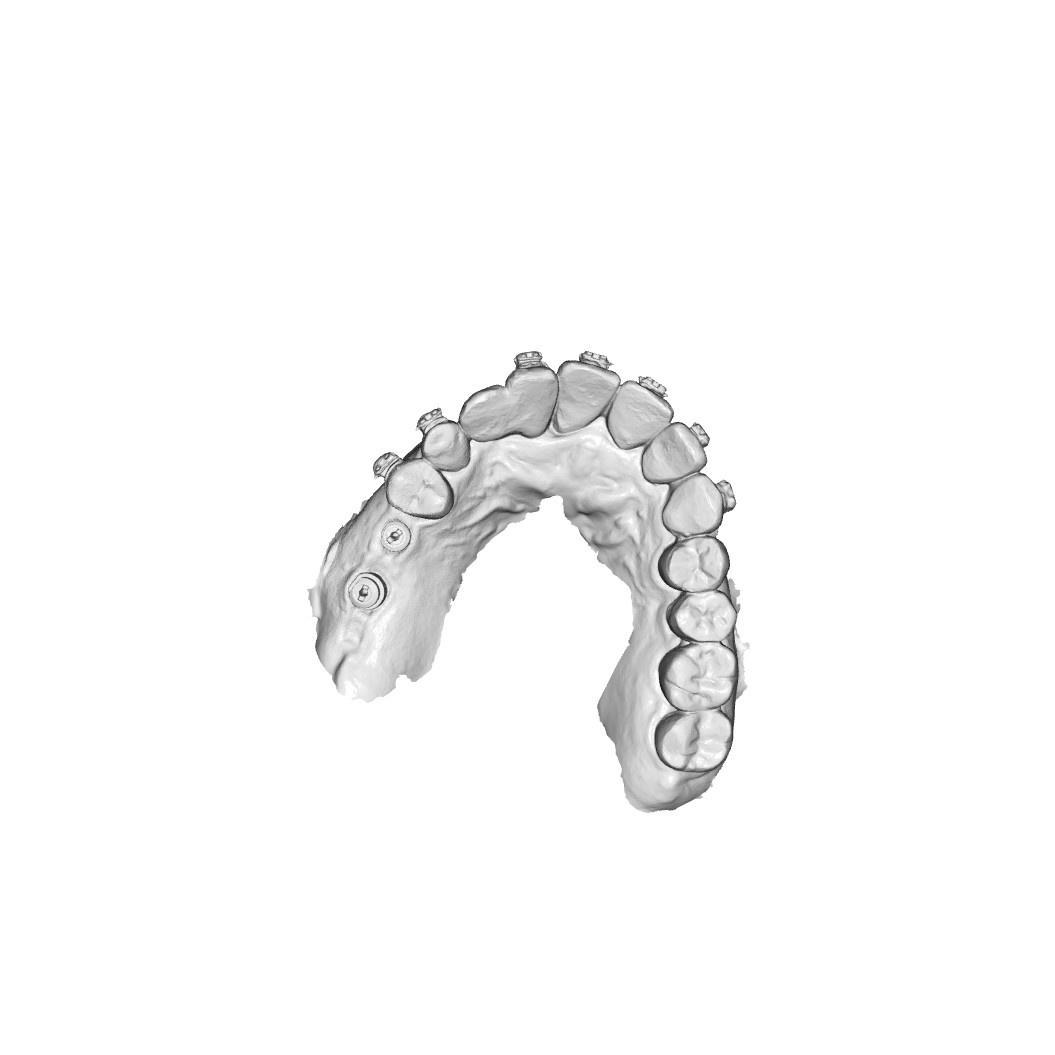canine: (661, 472, 724, 536), (420, 416, 471, 473)
implant_minus: (347, 570, 389, 615), (378, 518, 418, 559)
incisor: (607, 384, 665, 450), (509, 369, 560, 432), (559, 365, 611, 424), (459, 384, 508, 440), (648, 434, 695, 486)
molar: (660, 640, 738, 709), (659, 711, 738, 773)
premolar: (669, 587, 733, 645), (391, 457, 449, 511), (664, 540, 724, 592)
